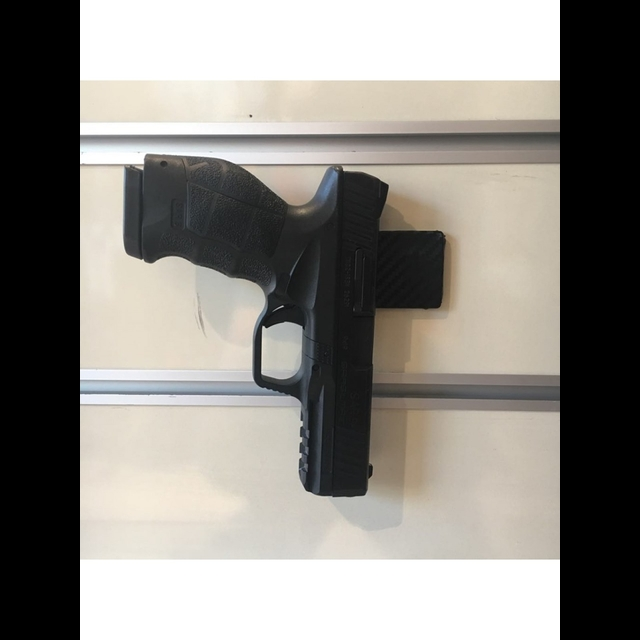SILAH: (119, 152, 378, 503)
